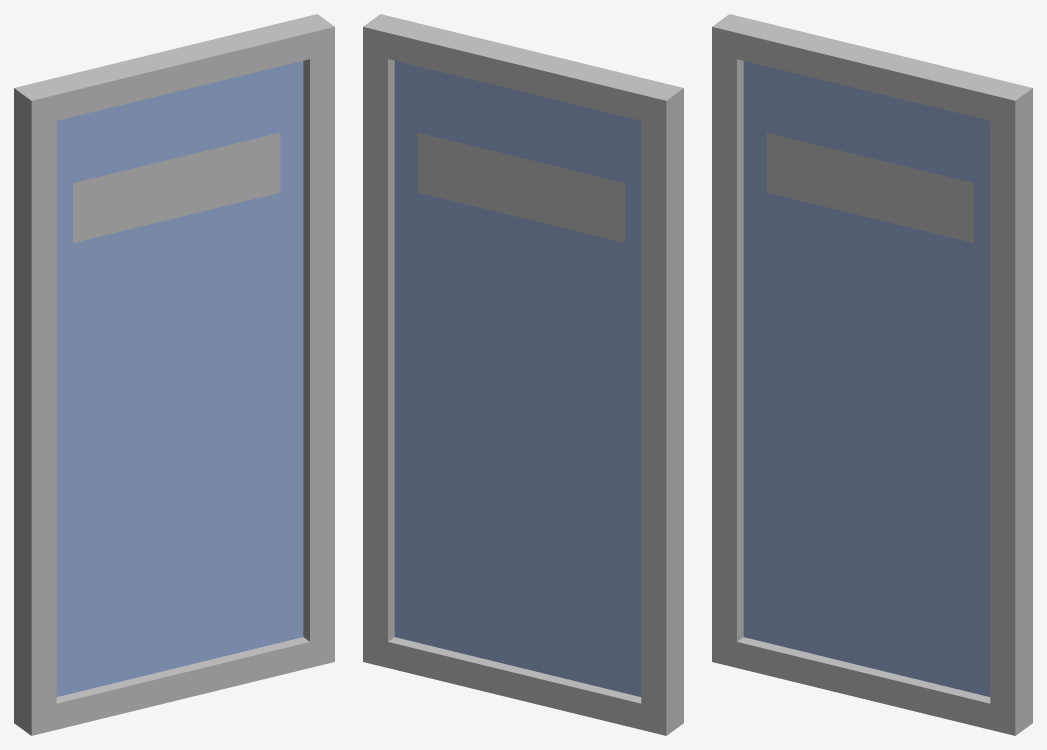
File: SM_Doors_01.gltf
3 views of the same model, side by side, from view 1: azimuth 30°, elevation 25°; view 2: azimuth 150°, elevation 25°; view 3: azimuth 330°, elevation 25° (orthographic).
Visible parts, largest first — view 1: Doors_01; view 2: Doors_01; view 3: Doors_01.
Boxes of the visible parts, x1=… form: Doors_01: x1=14, y1=14, x2=334, y2=735; Doors_01: x1=363, y1=14, x2=683, y2=735; Doors_01: x1=712, y1=14, x2=1032, y2=735.
Bounding box in the file's own units: 1 × 2 × 0.1.
